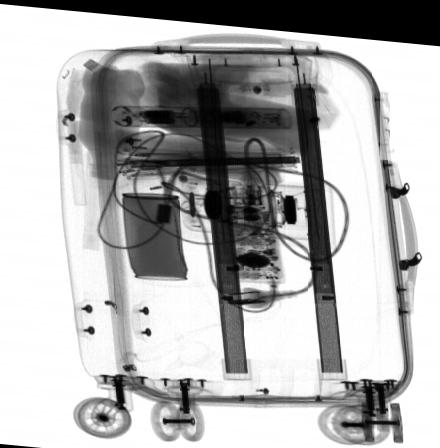Baton: (110, 101, 293, 124)
